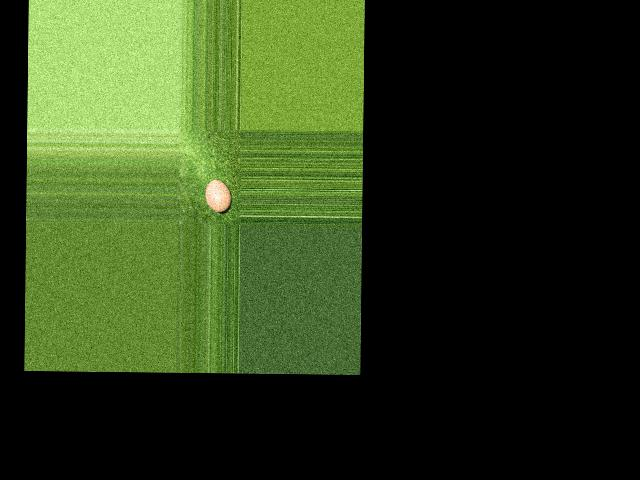egg: (205, 178, 232, 212)
